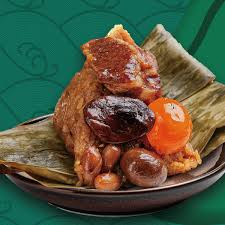zongzi: (53, 25, 201, 190)
